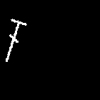double_crochet: (6, 19, 25, 61)
